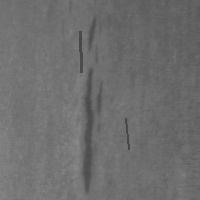inclusion: (77, 63, 106, 195), (82, 13, 103, 62), (123, 116, 130, 151), (78, 29, 83, 74)
